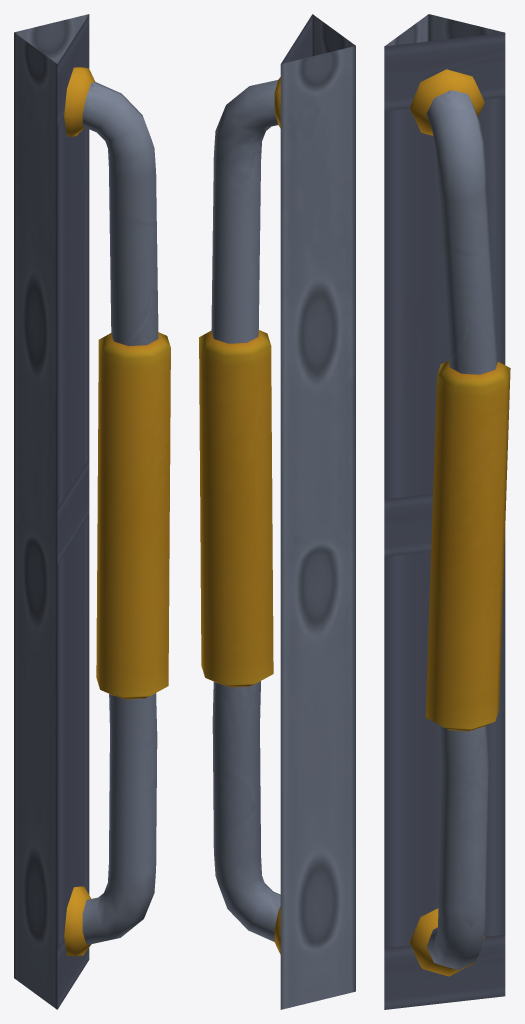
The model's file is obj_spaceship_corner02.fbx.
3 renders of one model, left to right at view 1: azimuth 30°, elevation 25°; view 2: azimuth 210°, elevation 25°; view 3: azimuth 330°, elevation 25°, orthographic.
Parts seen in each view (by area): view 1: polySurface43; view 2: polySurface43; view 3: polySurface43.
Part boxes in pixels (x1,y1,x2,y2): polySurface43: (14,14,170,1009); polySurface43: (199,14,355,1009); polySurface43: (384,14,510,1009).
Size of the model in its own units: 1.53 by 12 by 1.41.
